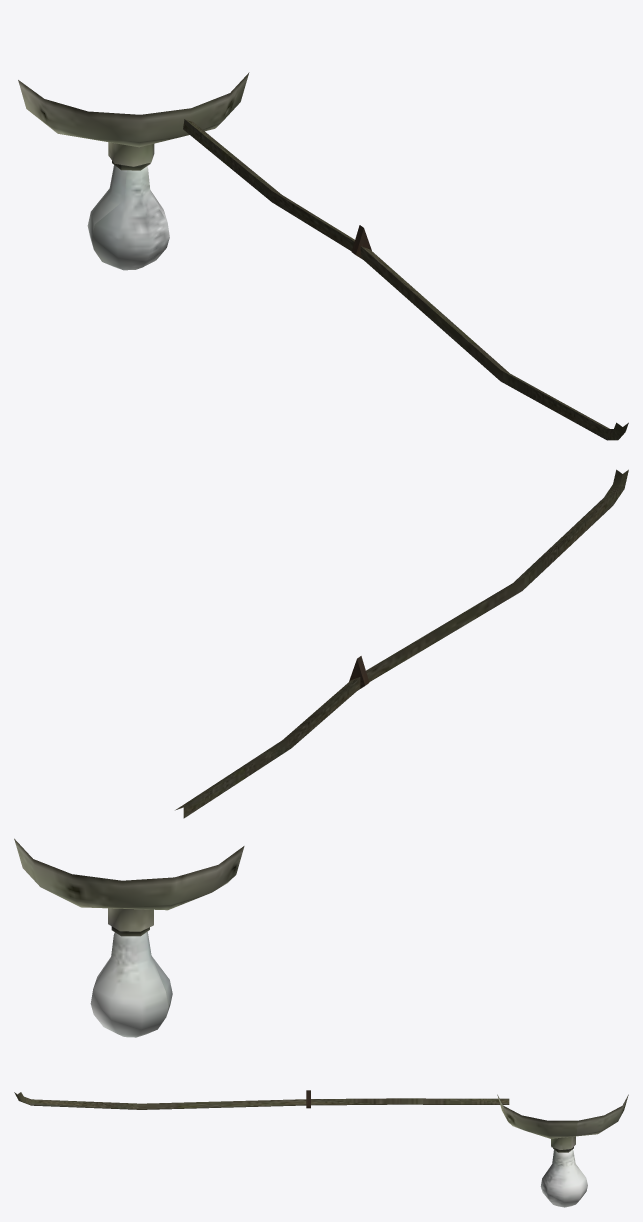
Rendered from lightbulb01a.glb.
3 views of the same model, one above another, from view 1: azimuth 30°, elevation 25°; view 2: azimuth 150°, elevation 25°; view 3: azimuth 270°, elevation 25° (orthographic). The views are drawn at different scales.
Visible parts, largest first — view 1: 0_LightBulb01a; view 2: 0_LightBulb01a; view 3: 0_LightBulb01a.
Boxes of the visible parts, <box> form: 0_LightBulb01a: <box>18,72,628,440</box>; 0_LightBulb01a: <box>14,469,628,1037</box>; 0_LightBulb01a: <box>14,1090,628,1207</box>.
Size of the model in its own units: 0.3401 by 0.3384 by 1.63.
1 material, 1 textured.
